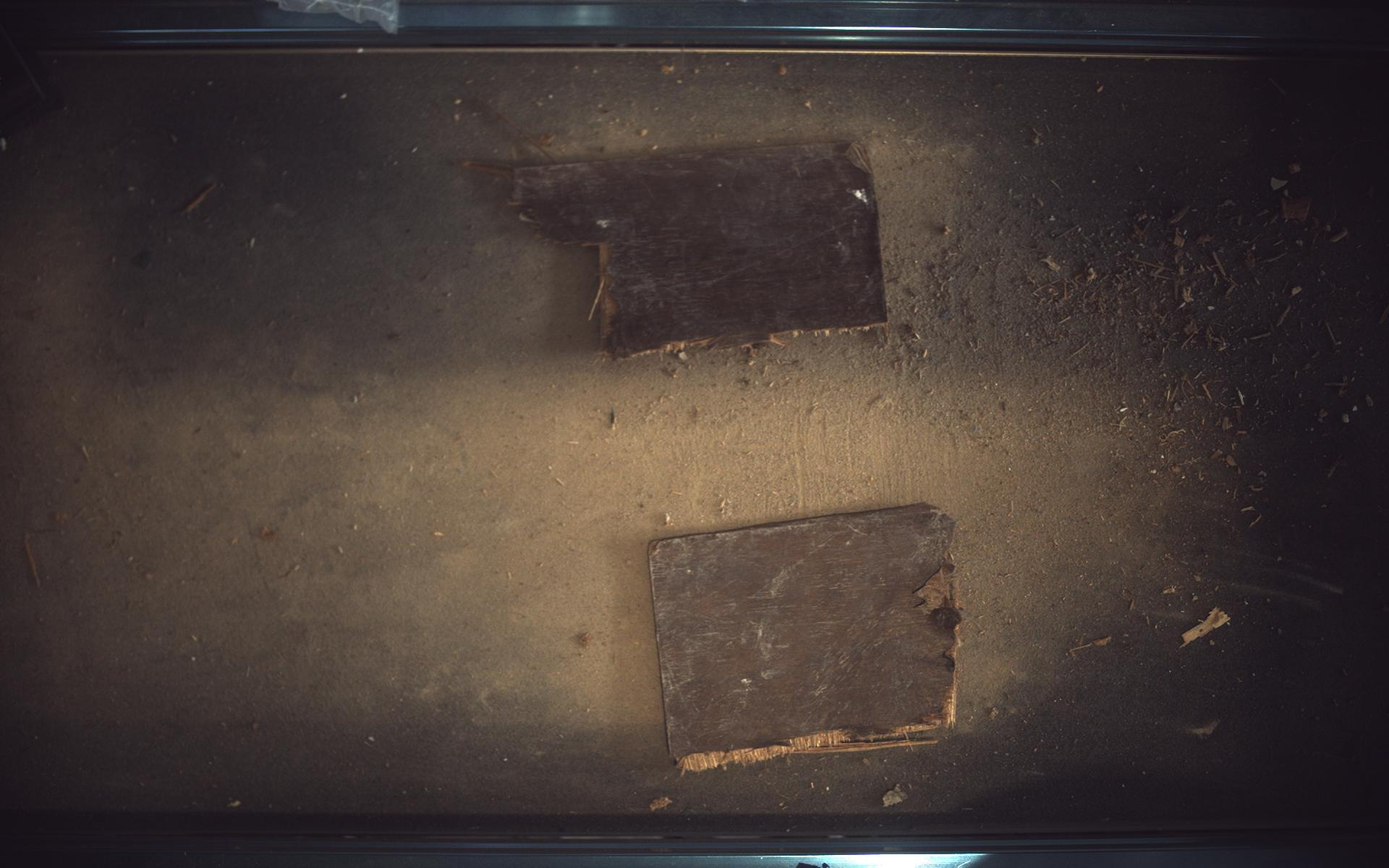wood: (462, 141, 889, 356), (651, 503, 964, 773)
